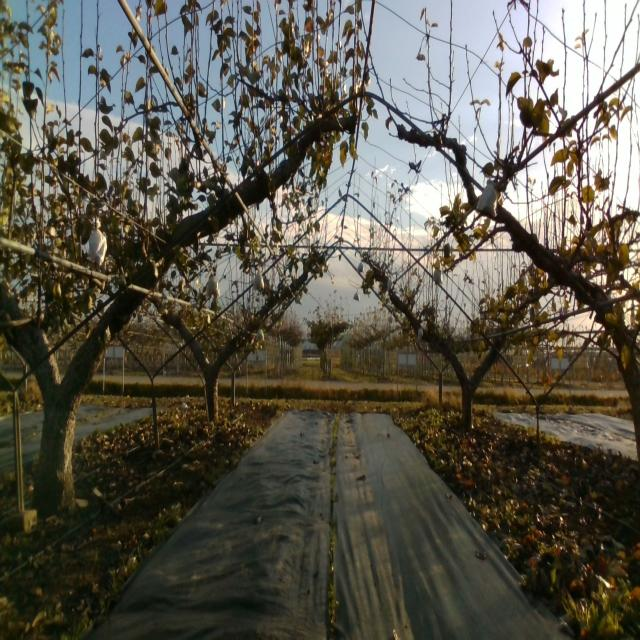pearbags: (474, 178, 498, 220), (87, 219, 107, 263), (206, 275, 222, 300), (252, 271, 266, 291)
